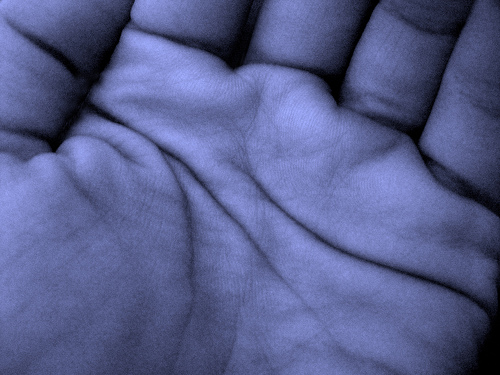palm: (72, 78, 421, 360)
